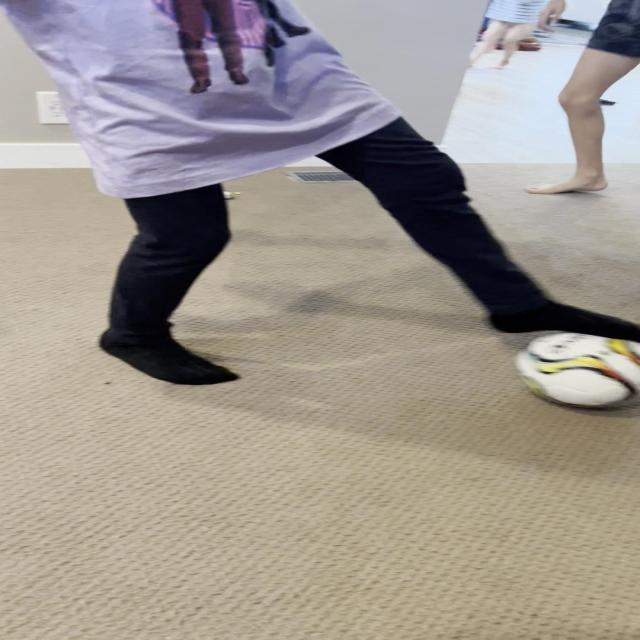Soccer Ball: (517, 328, 640, 407)
